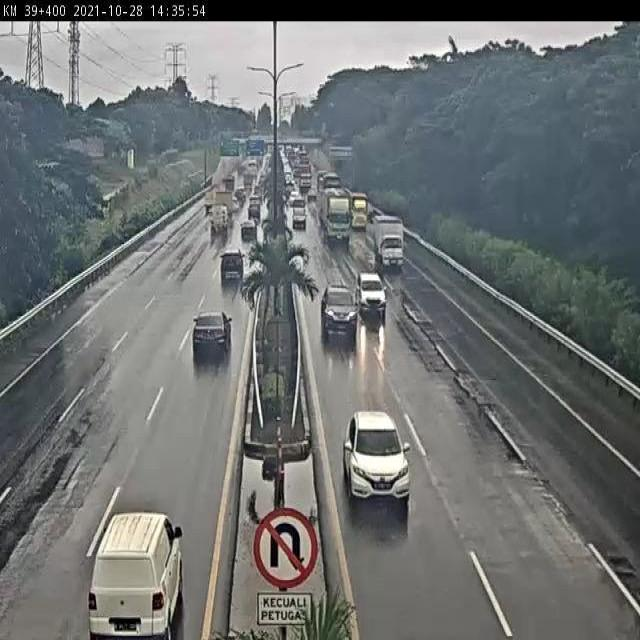big truck: (320, 191, 351, 245)
car: (86, 504, 191, 637), (340, 397, 412, 504), (321, 283, 356, 337), (187, 310, 223, 362), (352, 272, 391, 317), (219, 251, 244, 293), (284, 201, 314, 228), (244, 200, 267, 221), (238, 223, 258, 245)
small truck: (377, 217, 401, 263), (217, 189, 235, 219), (350, 196, 366, 228), (210, 207, 227, 236)
